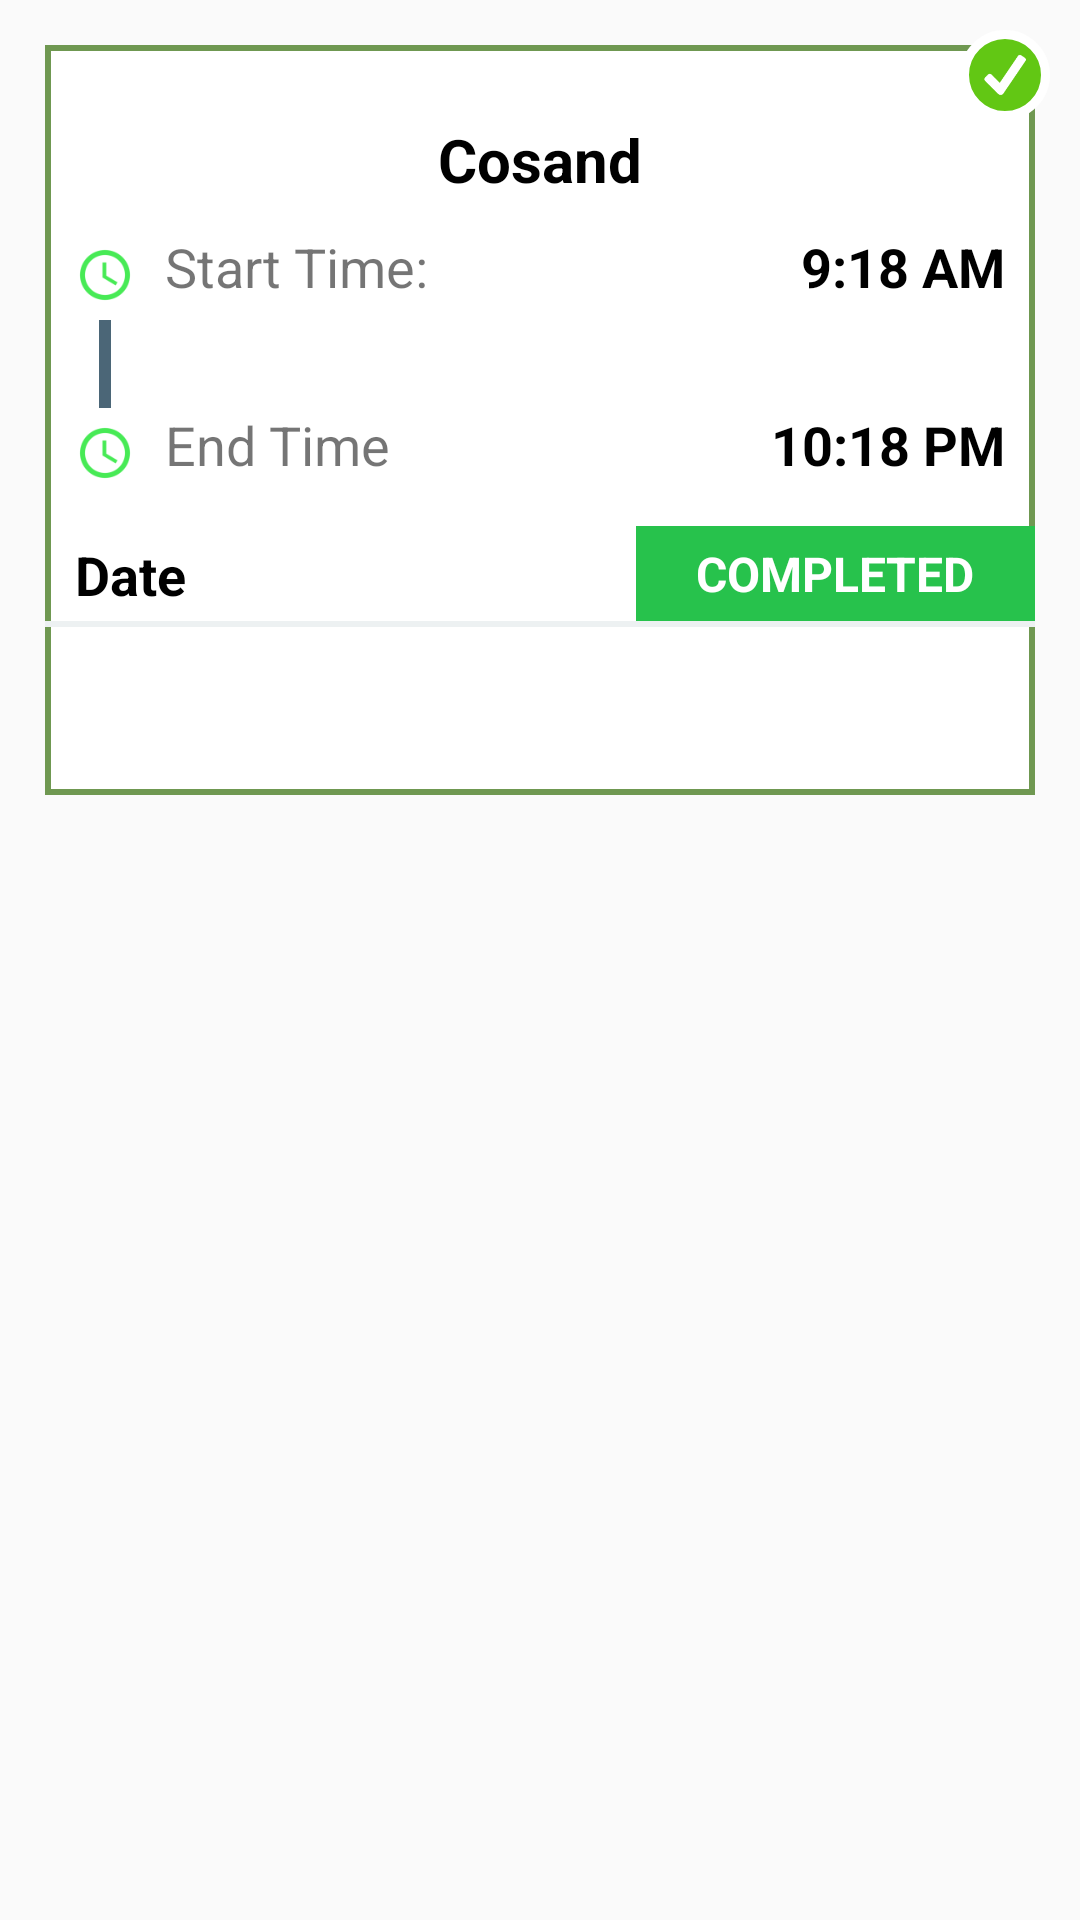

Where icons sit on this 1080*1920 app screen, as rect(x1, y1, x2, y2):
check mark: rect(969, 39, 1041, 111)
